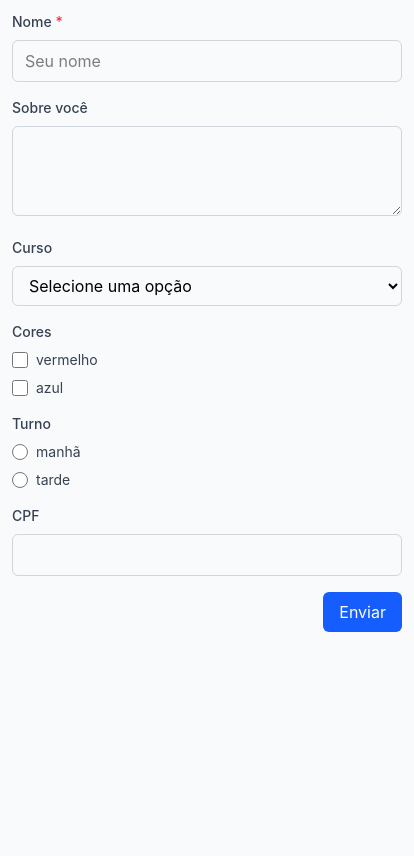
Scenario: DynamicForm › blocks submit when required field is empty and shows error
Step 1. Click the button "Enviar" → (363, 612), box [323,592,402,632]
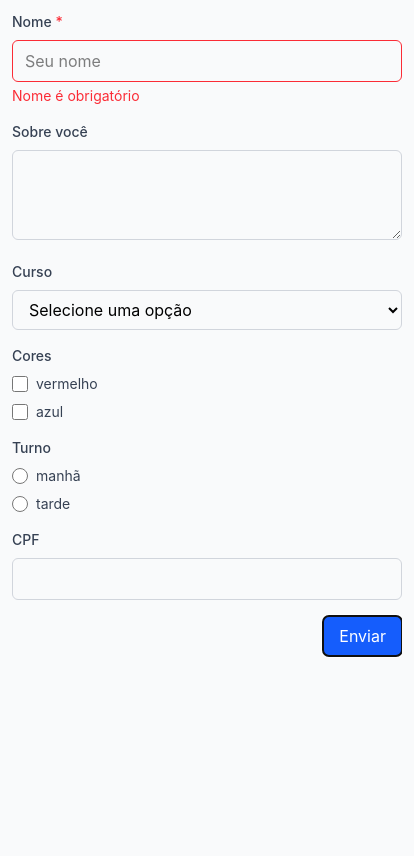
Check: the text "Nome é obrigatório" is shown, box [12,87,140,104]
